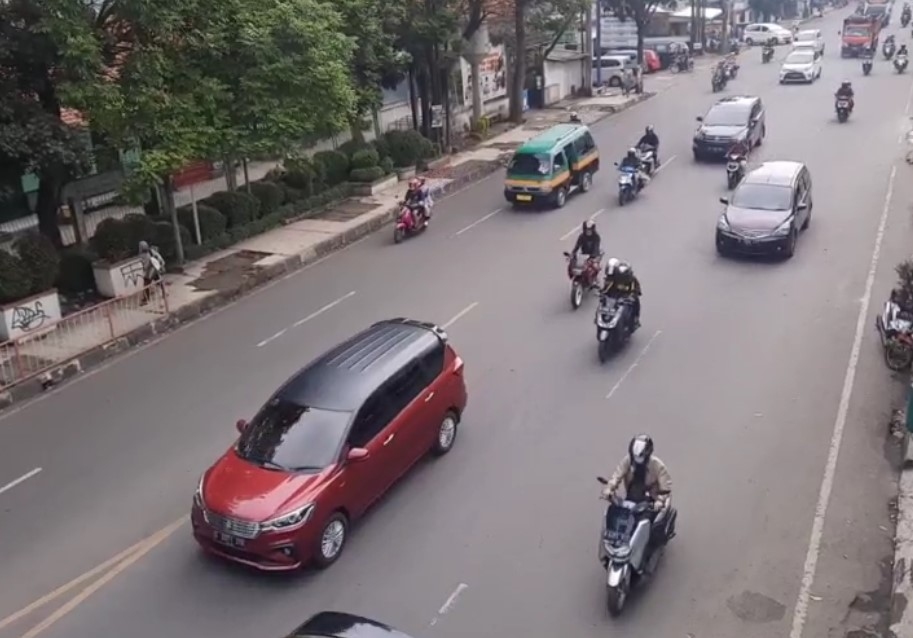motor: (592, 430, 683, 606), (593, 259, 641, 360), (557, 212, 605, 305), (392, 180, 438, 245), (615, 145, 642, 213)
